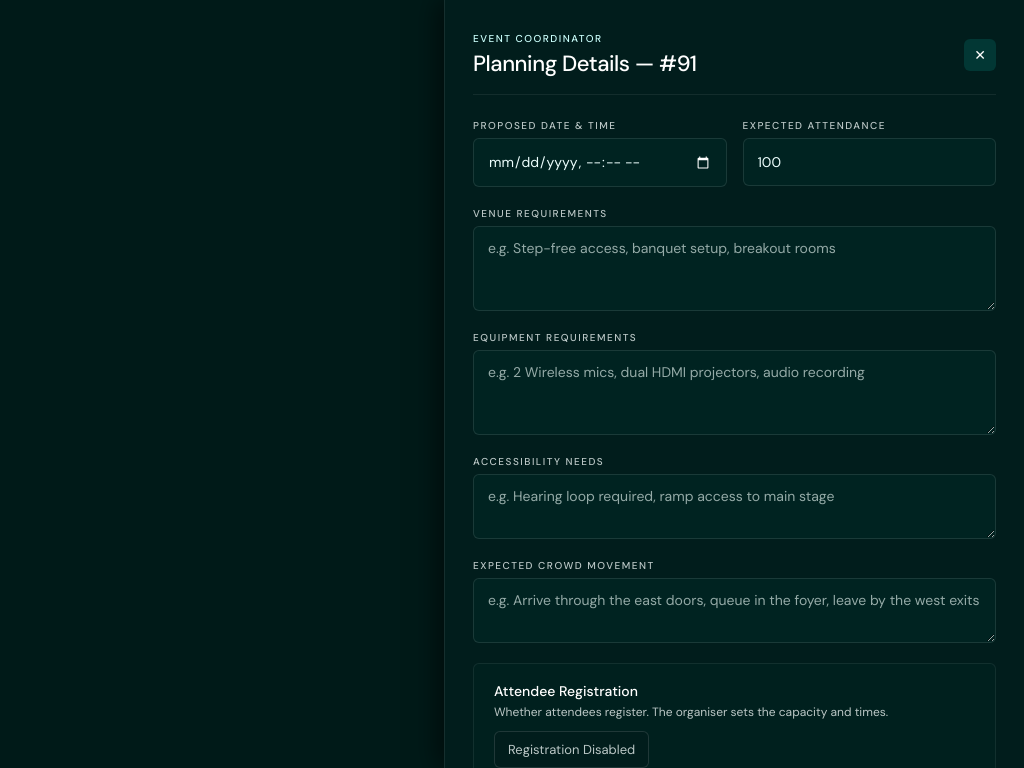
Test: EventPlanningDrawer Component › [CONFLICT] [SG2-39:AC2] the arrangements warning is scrolled into view and focused when the server asks to confirm
This screenshot has width=1024, height=768.
Step 1. Replace the text in the number field labelled "Expected Attendance" with "120" → (869, 162), box left=742, top=138, right=996, bottom=186
(page scrolled)
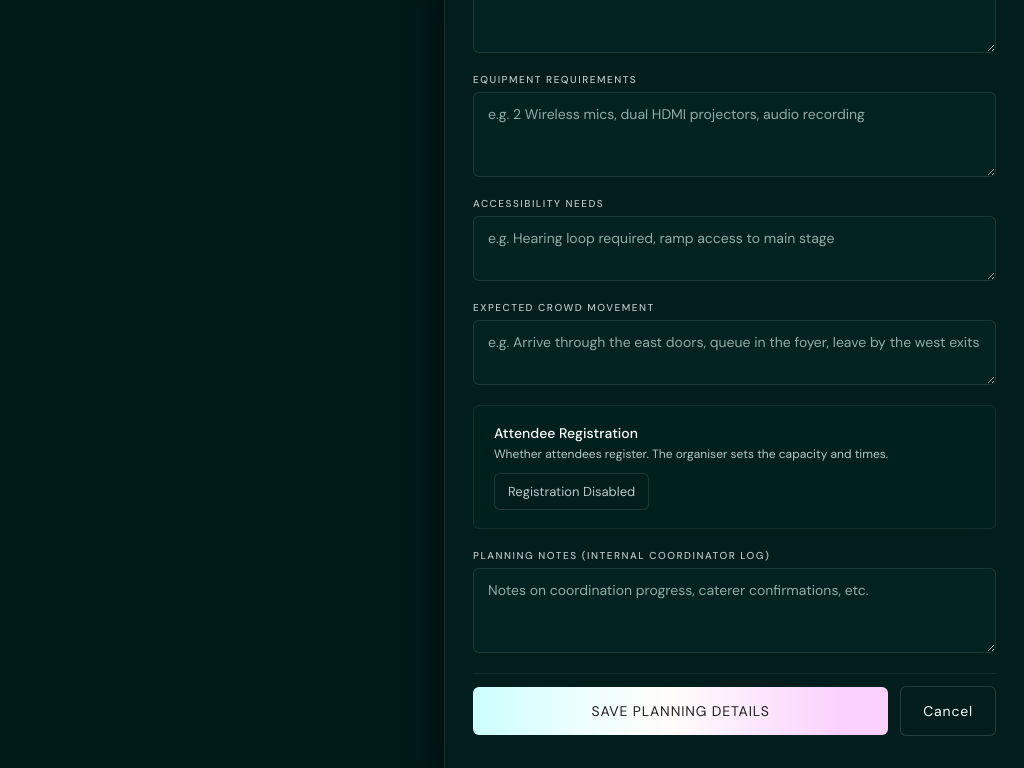
Step 2. Click the button "Save Planning Details" → click(681, 711), box left=473, top=687, right=888, bottom=735
(page scrolled)
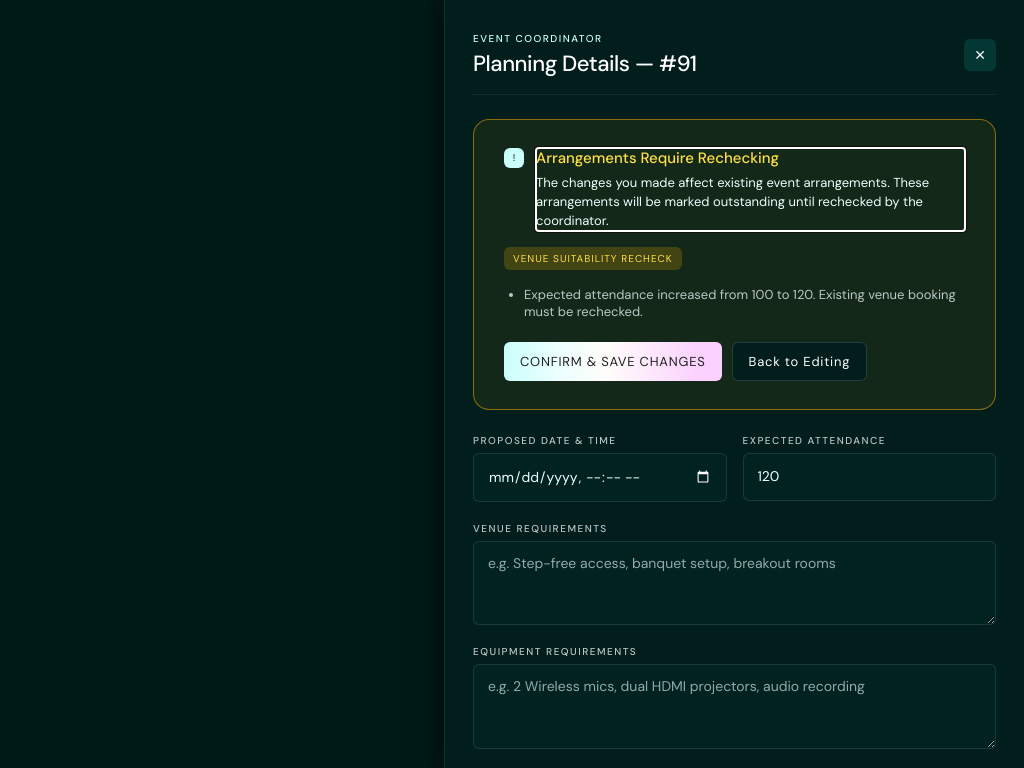
Expected: the message shows "Arrangements Require Rechecking", left=536, top=148, right=779, bottom=168
